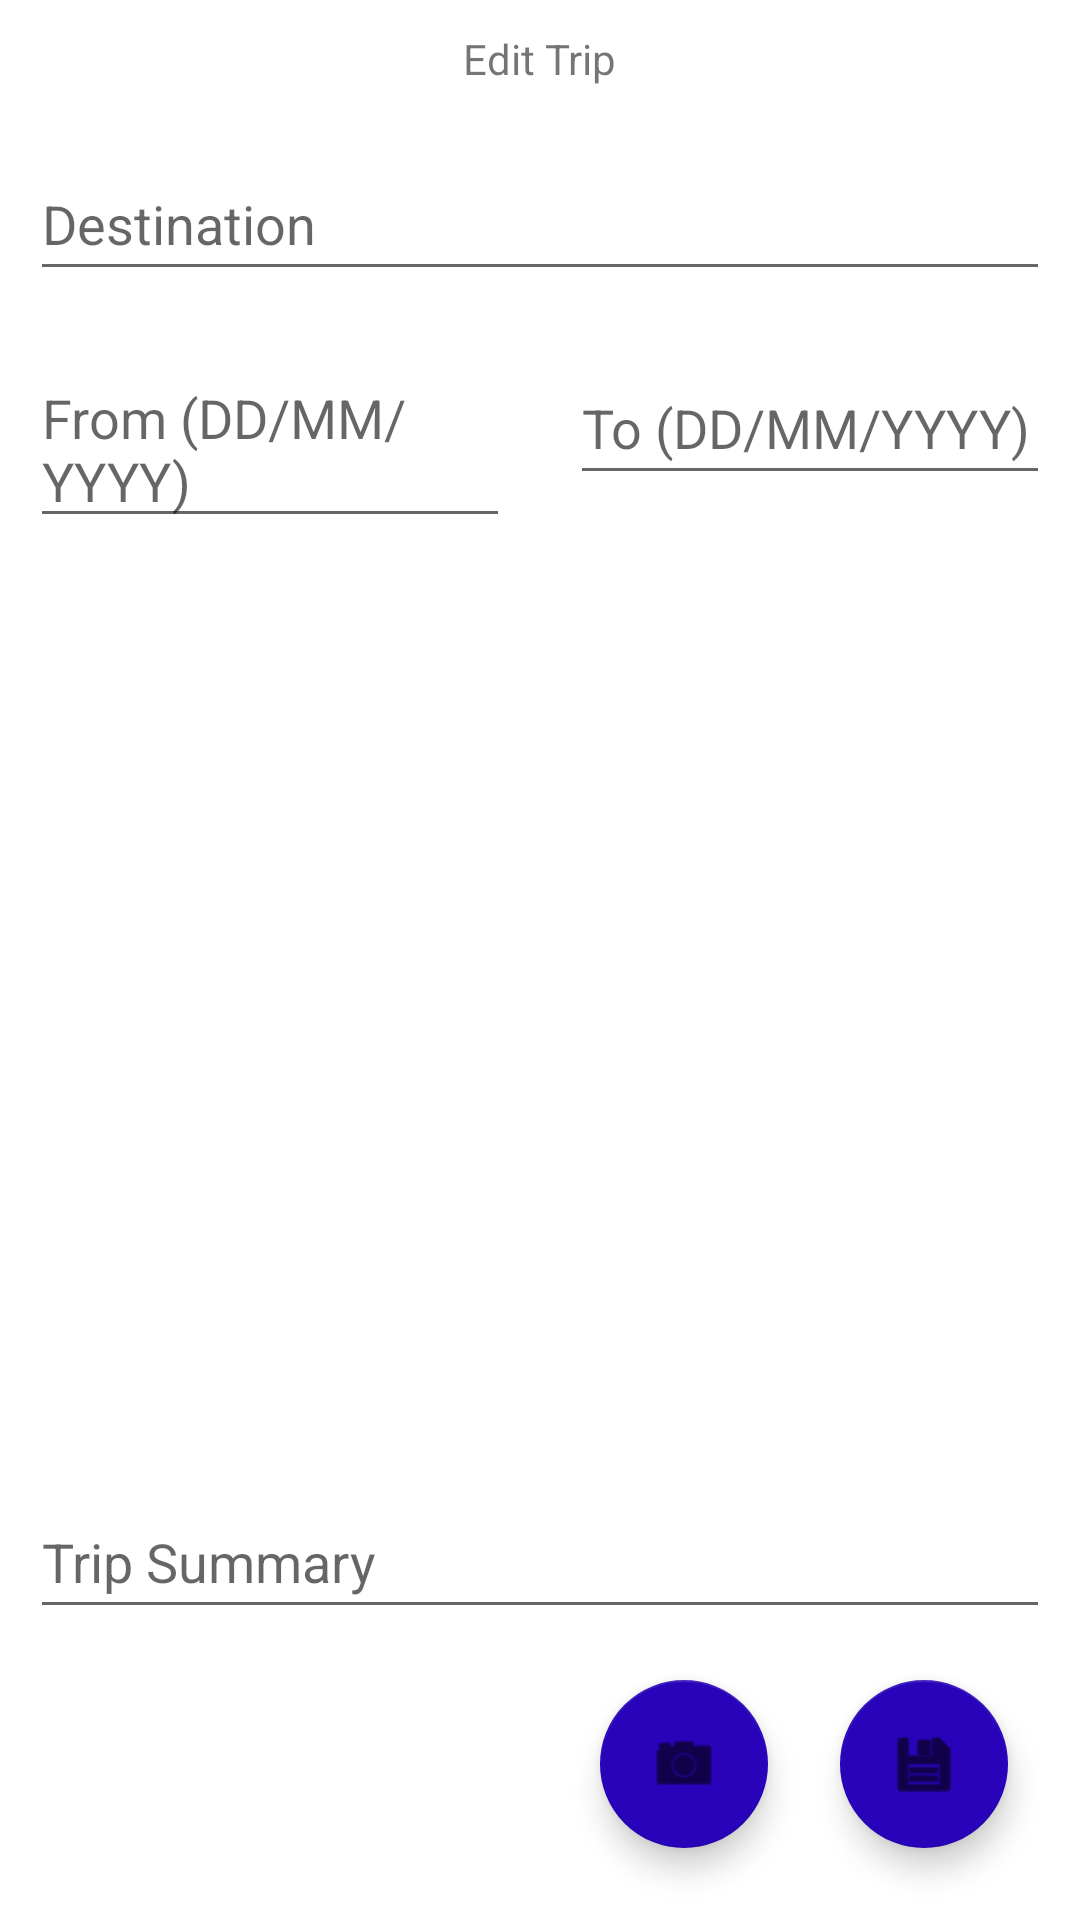

Where icons sit on this 1080x1920 app screen, as (x1, y1, x2, y2):
Save Trip: (840, 1680, 1008, 1848)
Take Picture: (600, 1680, 768, 1848)
